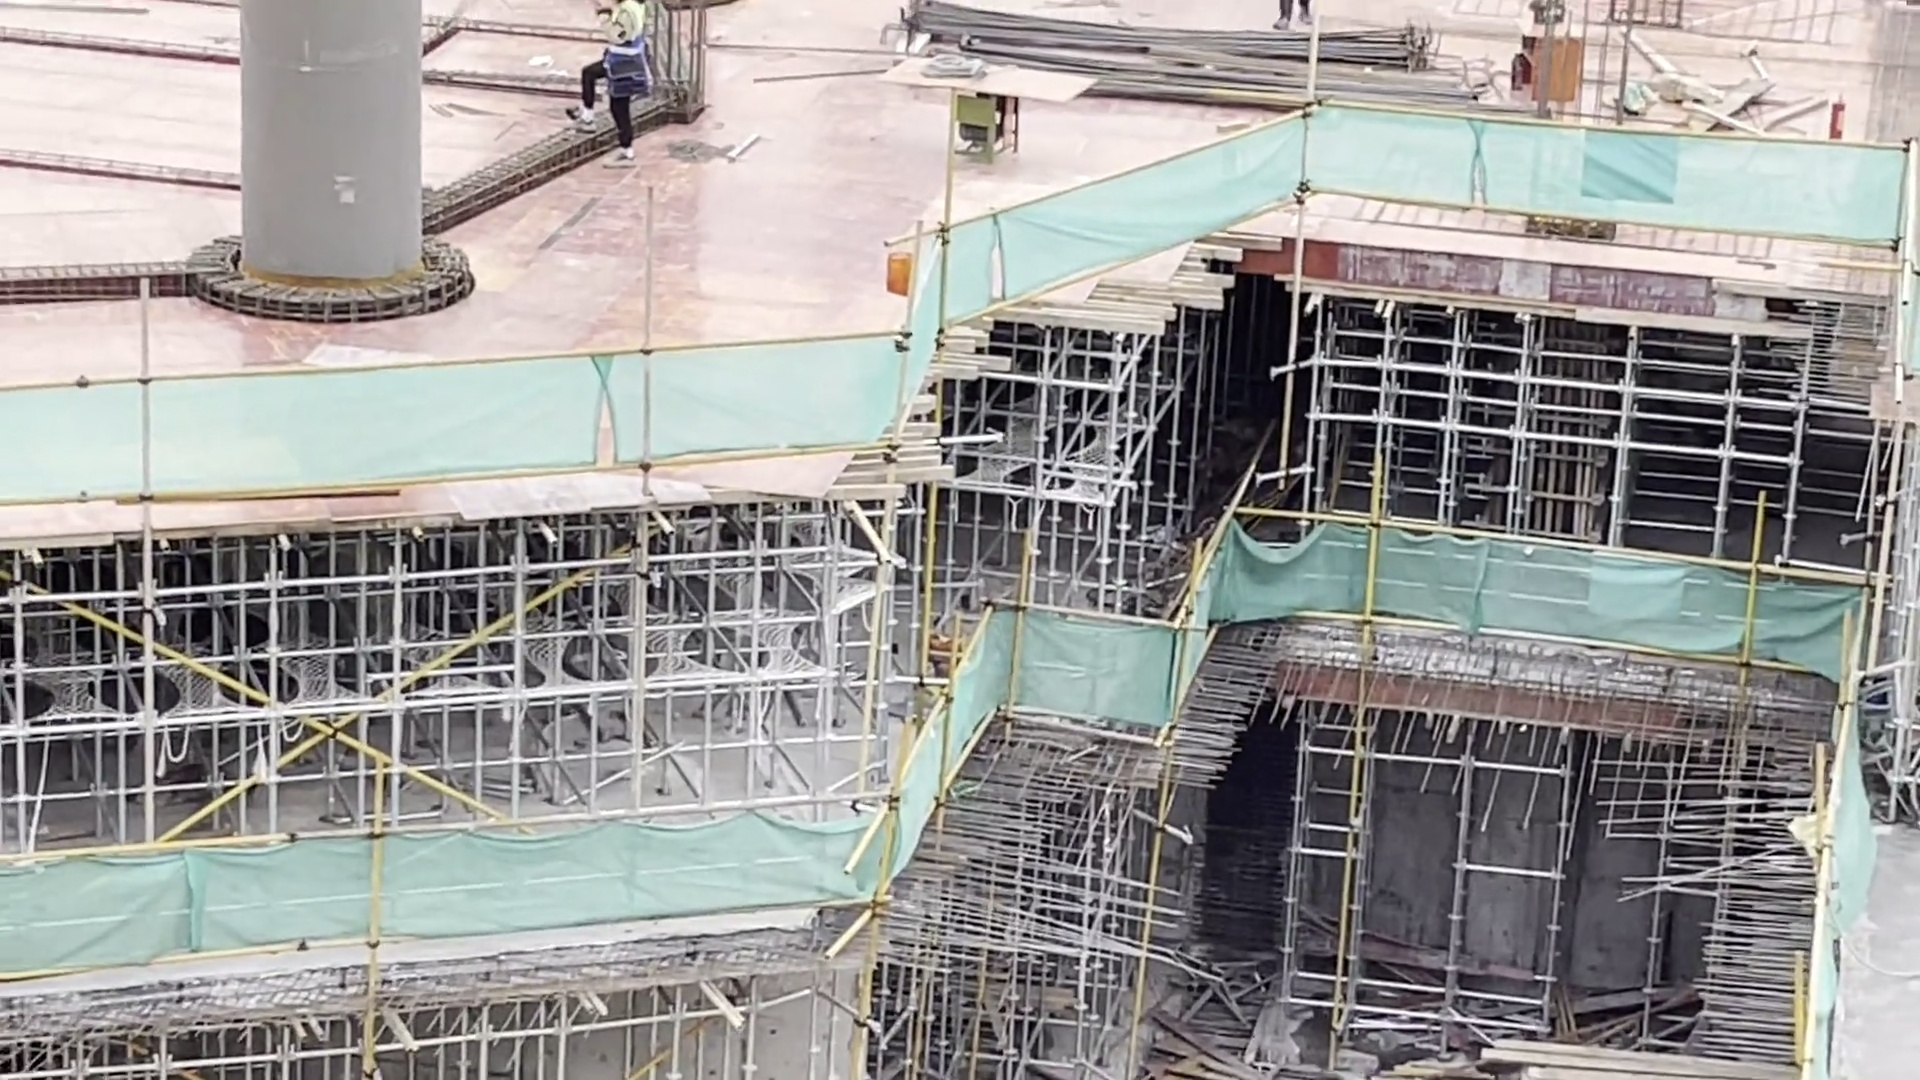person: (583, 2, 659, 172)
rebar: (914, 14, 1473, 104)
vest: (592, 5, 656, 92)
